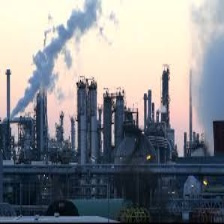smoke: (12, 4, 105, 117), (188, 1, 224, 123)
